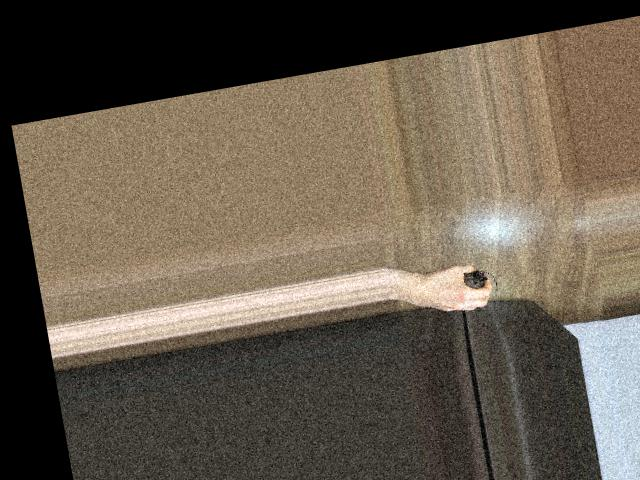beet: (463, 266, 499, 295)
